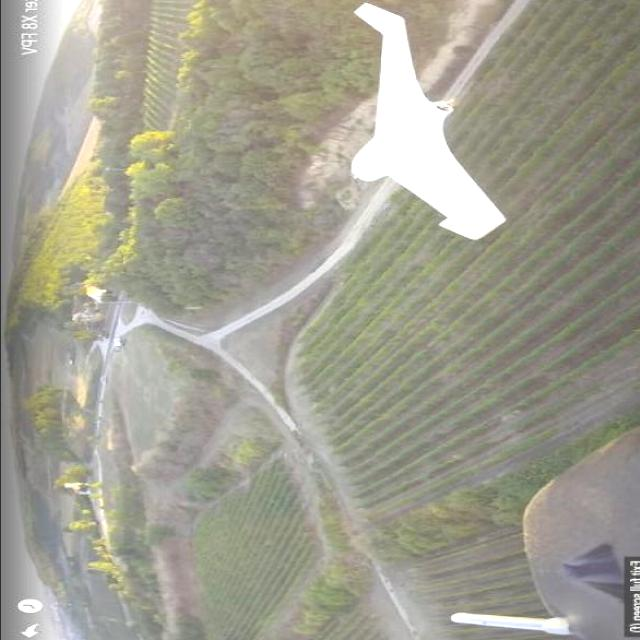plane: (347, 0, 506, 241)
